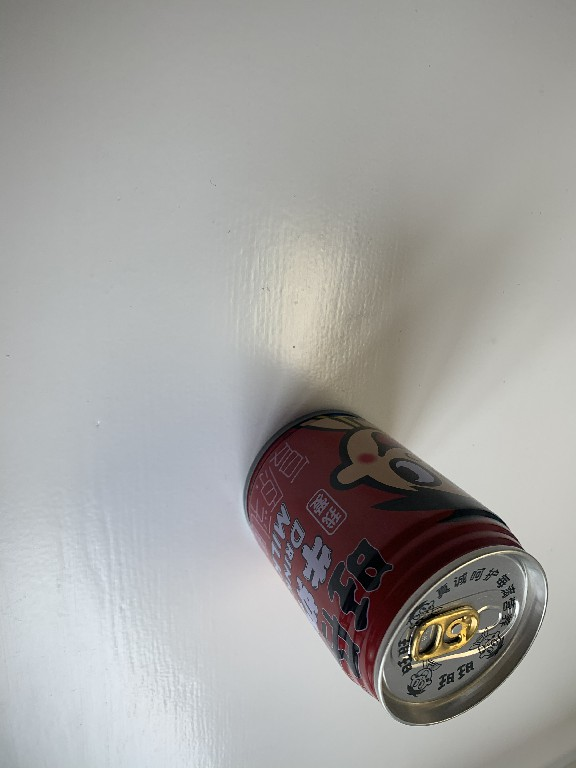can: (235, 405, 555, 734)
